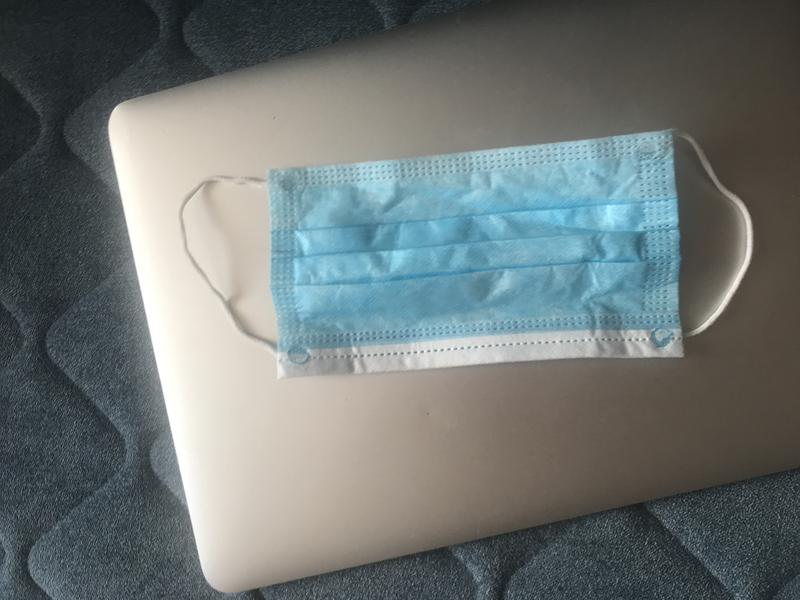medical_mask: (178, 132, 755, 377)
